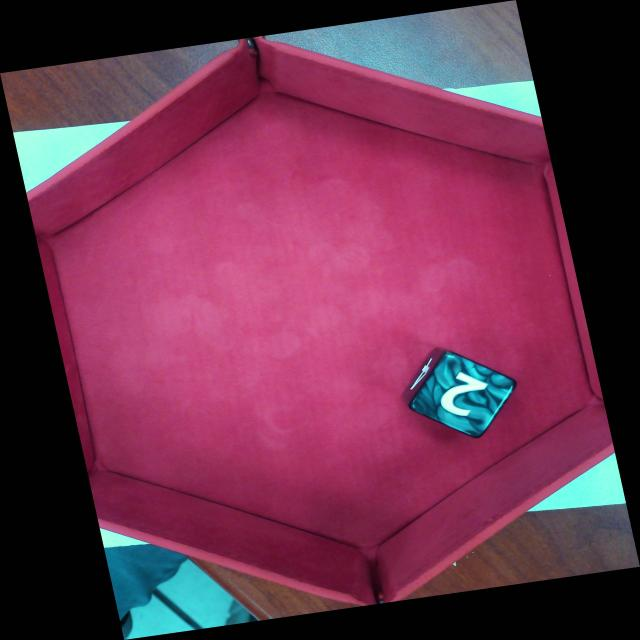dice: (409, 351, 517, 438)
